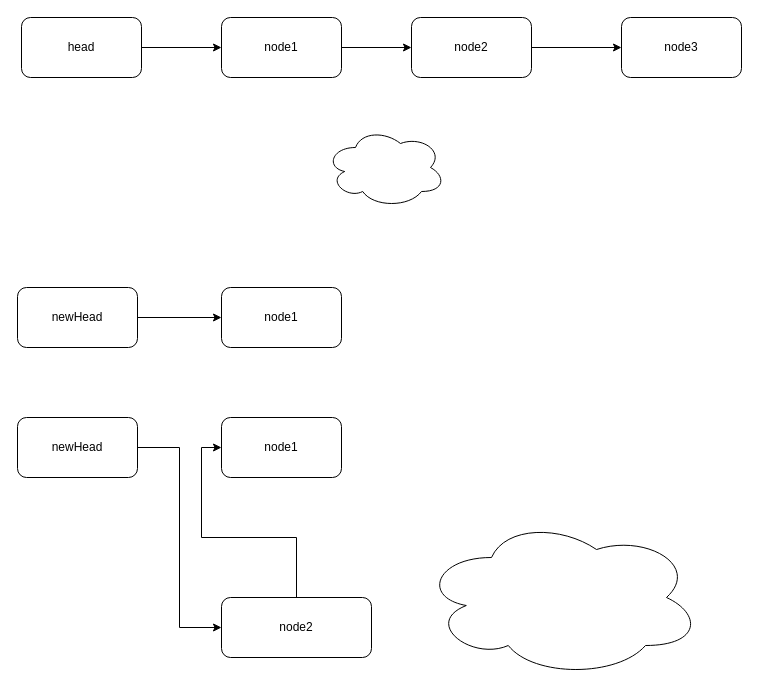
This 759x695 diagram has some shape labels left out. Here are the shapes that lost their labels. From the top down, the centre of each, then its label:
the point at 385,167: 翻转
the point at 561,597: 把新的遍历到的节点指向新链表的下一个节点， 然后把新链表的下一个节点指向当前遍历到的节点
